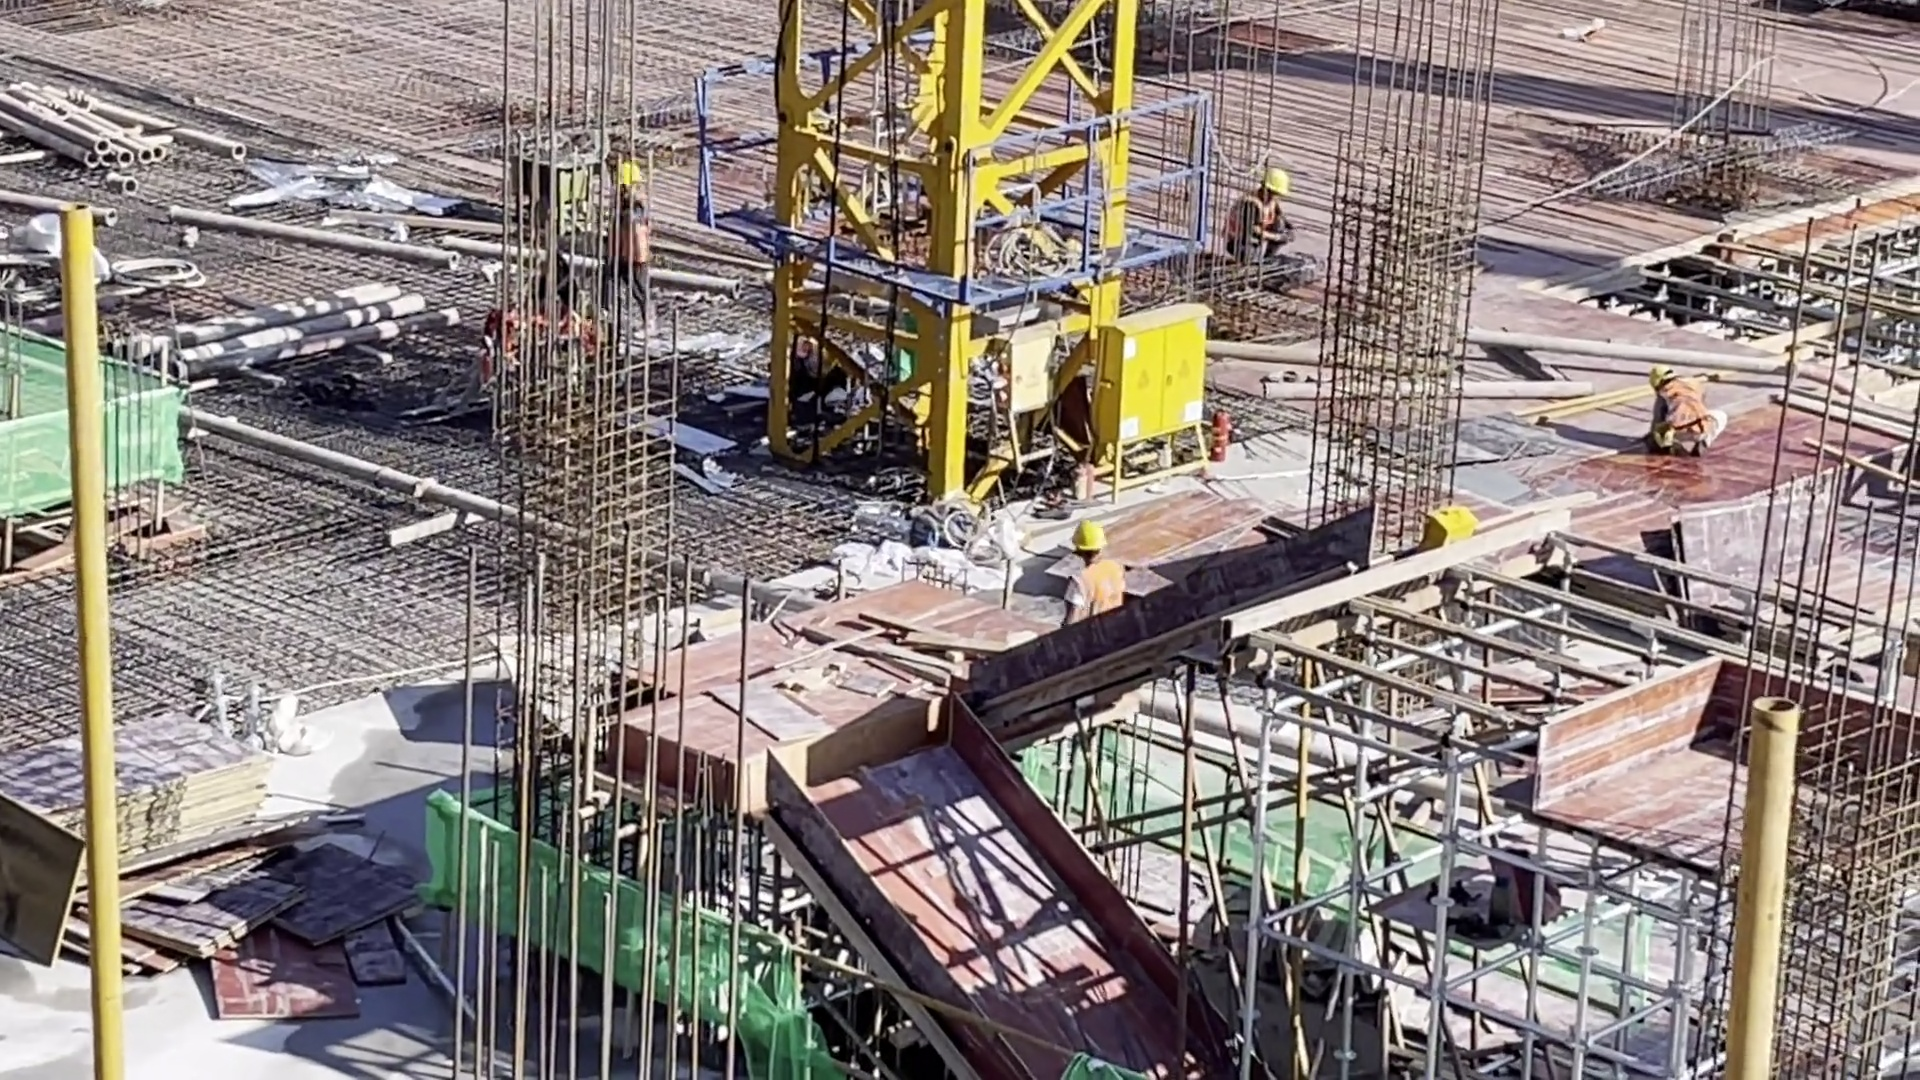board: (130, 848, 416, 1022), (1, 711, 279, 872)
ebox: (1097, 299, 1219, 501), (983, 323, 1074, 478), (1420, 503, 1484, 551)
helmet: (1067, 513, 1109, 557), (1267, 171, 1296, 198), (614, 164, 643, 188)
person: (601, 163, 656, 331), (1223, 171, 1302, 274), (1060, 507, 1125, 631), (1640, 360, 1726, 449)
vest: (1068, 554, 1124, 627), (607, 195, 651, 274), (1660, 385, 1710, 440)
